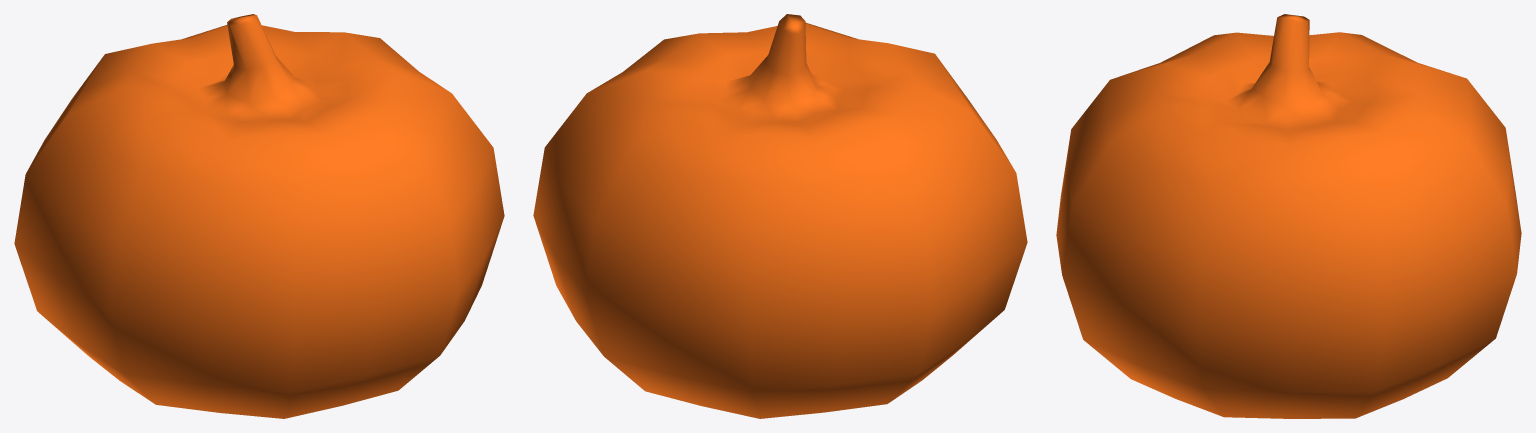
The model's file is Pumpkin LP (No Carving).obj.
3 renders of one model, left to right at view 1: azimuth 30°, elevation 25°; view 2: azimuth 150°, elevation 25°; view 3: azimuth 270°, elevation 25°, orthographic.
Visible parts, largest first — view 1: Main_Pumpkin_LP; view 2: Main_Pumpkin_LP; view 3: Main_Pumpkin_LP.
Boxes of the visible parts, x1,y1,x2,y2 form: Main_Pumpkin_LP: (14,14,504,418); Main_Pumpkin_LP: (533,14,1027,418); Main_Pumpkin_LP: (1056,14,1521,418).
Size of the model in its own units: 0.7817 by 0.6252 by 0.7818.
1 material, 1 textured.
